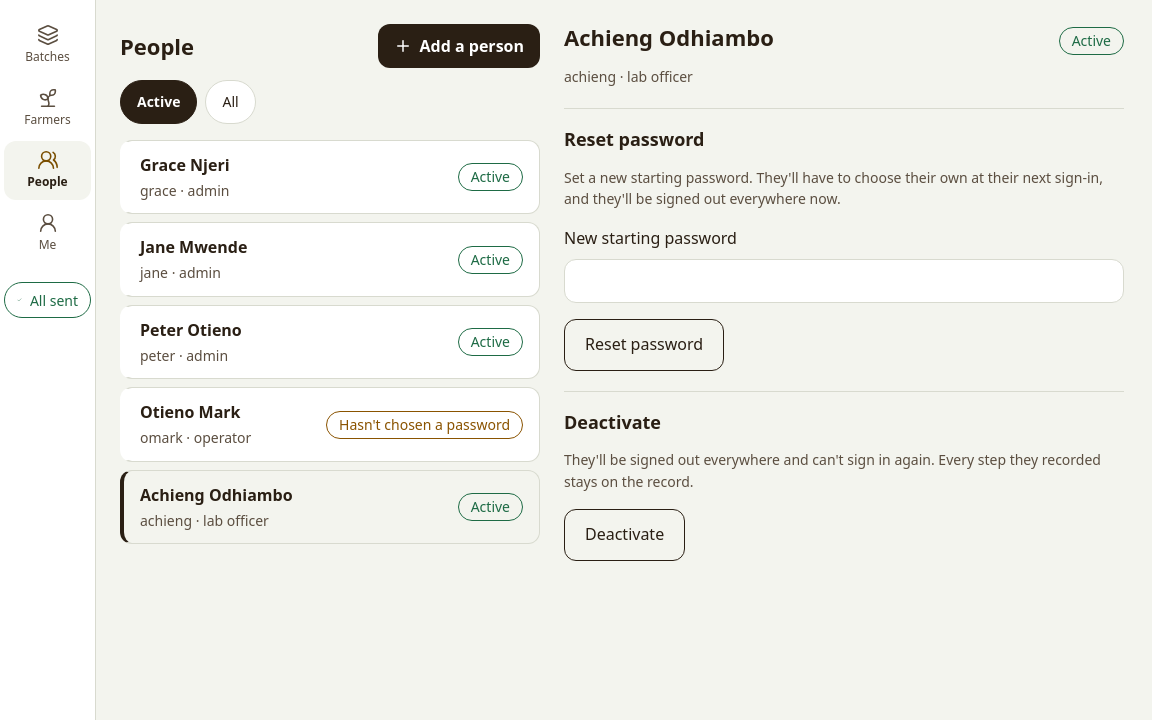
Test: A person › deactivates someone, who can then no longer sign in
Expected: the heading "Achieng Odhiambo" is shown, 564,22 -> 774,52
Click the button "Deactivate". click: click(625, 535)
box: 564,509 -> 685,561
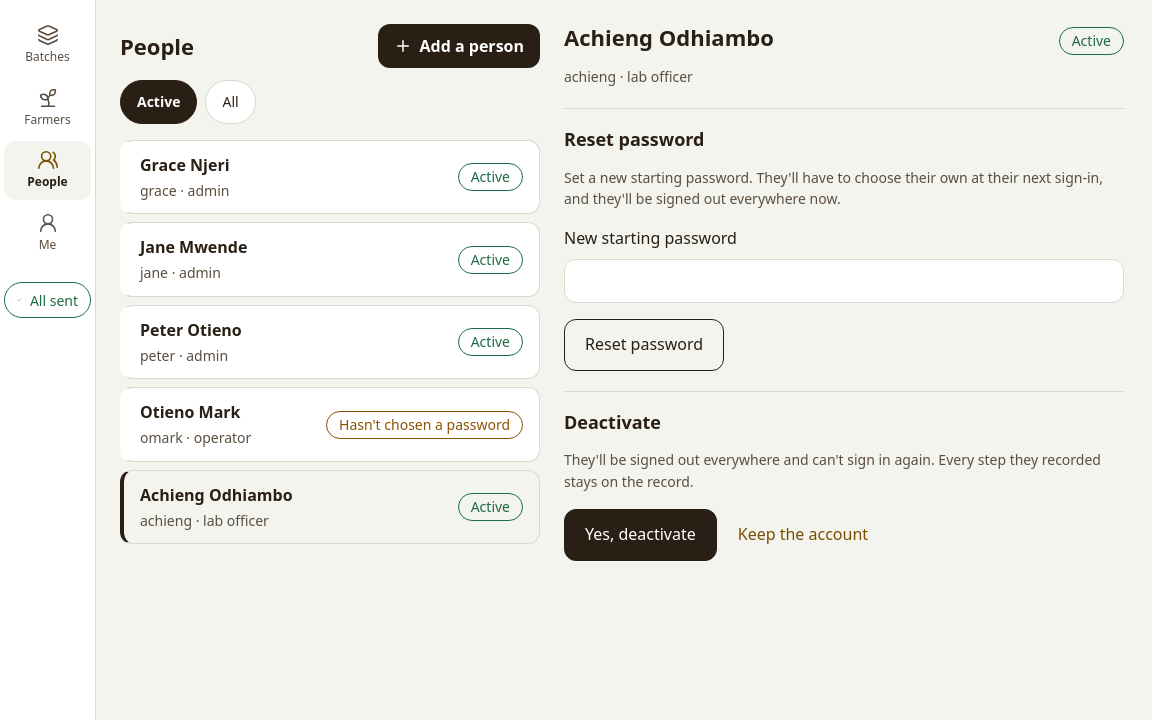
Click the button "Yes, deactivate". click: click(640, 535)
box: 564,509 -> 717,561
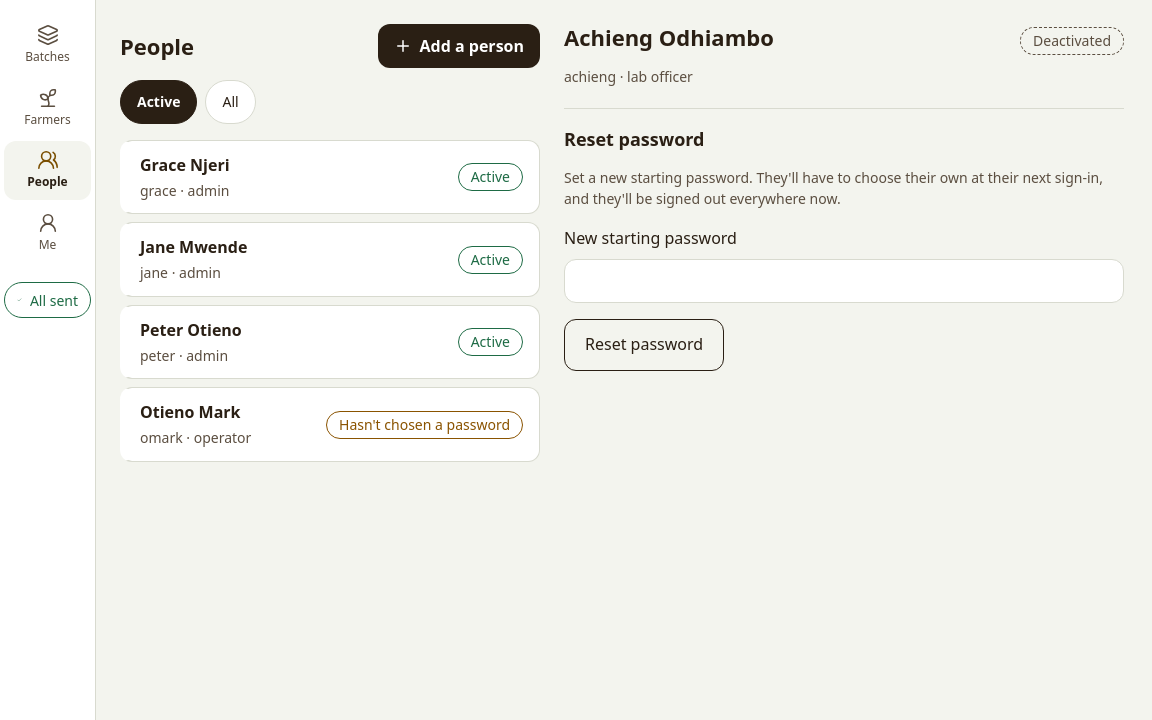
Expected: the text "Deactivated" is shown, 1020,27 -> 1124,55
